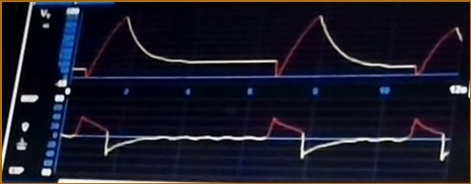Flow: (66, 111, 450, 171)
Leakage Volume: (78, 10, 462, 83)
